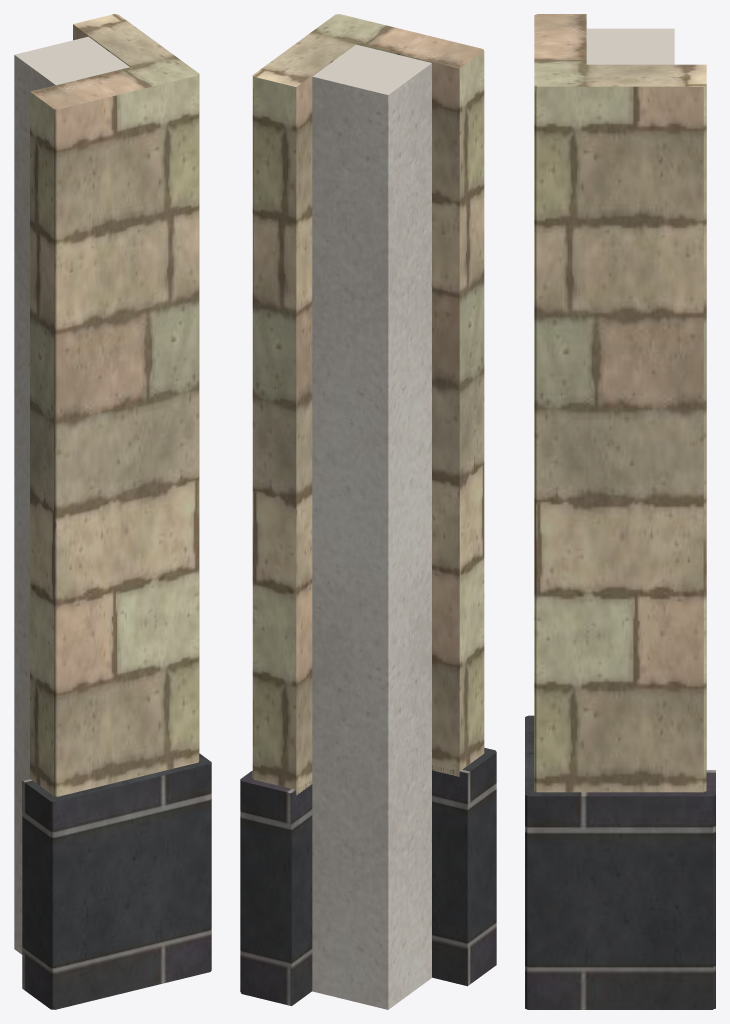
Rendered from f_corner_g.glb.
3 views of the same model, side by side, from view 1: azimuth 30°, elevation 25°; view 2: azimuth 150°, elevation 25°; view 3: azimuth 270°, elevation 25° (orthographic). The views are drawn at different scales.
Parts seen in each view (by area): view 1: f_corner_g_terra, f_corner_g_plinth, f_corner_g_plaster; view 2: f_corner_g_plaster, f_corner_g_terra, f_corner_g_plinth; view 3: f_corner_g_terra, f_corner_g_plinth, f_corner_g_plaster.
Boxes of the visible parts, left/top/right/bottom form: f_corner_g_terra: left=30, top=14, right=199, bottom=796; f_corner_g_plinth: left=22, top=753, right=211, bottom=1009; f_corner_g_plaster: left=14, top=36, right=129, bottom=954; f_corner_g_plaster: left=312, top=44, right=431, bottom=1009; f_corner_g_terra: left=252, top=14, right=484, bottom=795; f_corner_g_plinth: left=240, top=747, right=496, bottom=1005; f_corner_g_terra: left=534, top=14, right=706, bottom=792; f_corner_g_plinth: left=525, top=715, right=715, bottom=1009; f_corner_g_plaster: left=586, top=28, right=674, bottom=64.
Bounding box in the file's own units: 0.62 × 3.3 × 0.62.
3 materials, 3 textured.
